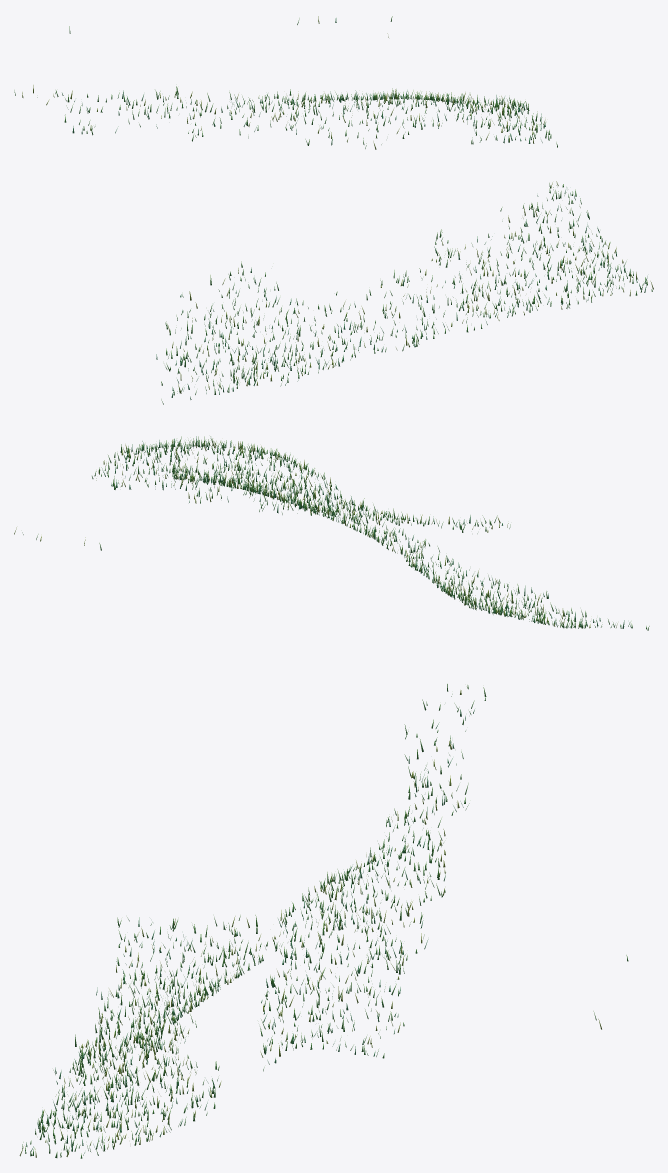
3 views of the same model, one above another, from view 1: azimuth 30°, elevation 25°; view 2: azimuth 150°, elevation 25°; view 3: azimuth 270°, elevation 25° (orthographic). The views are drawn at different scales.
Parts seen in each view (by area): view 1: gc_43; view 2: gc_43; view 3: gc_43.
Part boxes in pixels (left/top/right/bottom): gc_43: left=14, top=16, right=653, bottom=404; gc_43: left=14, top=436, right=649, bottom=630; gc_43: left=19, top=684, right=628, bottom=1158.
Bounding box in the file's own units: 16.05 × 7.22 × 15.56.
Materials: 1 (1 with a texture image).
